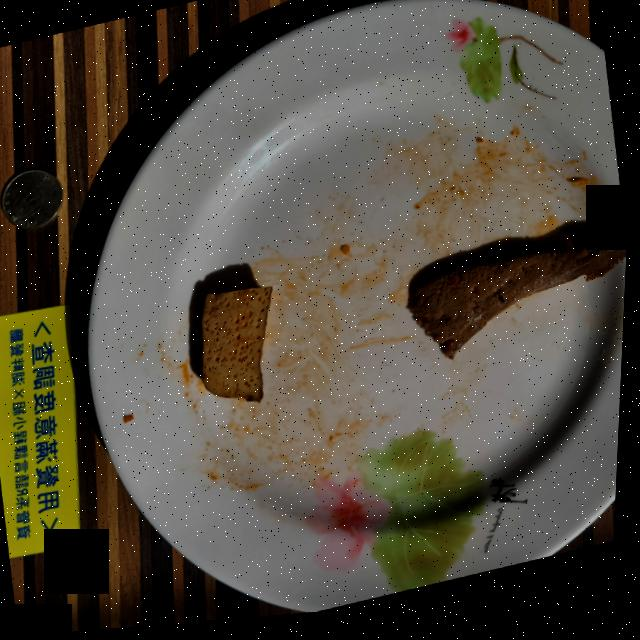coin: (2, 169, 65, 229)
firm tofu: (204, 290, 275, 406)
pig liver: (412, 246, 630, 366)
